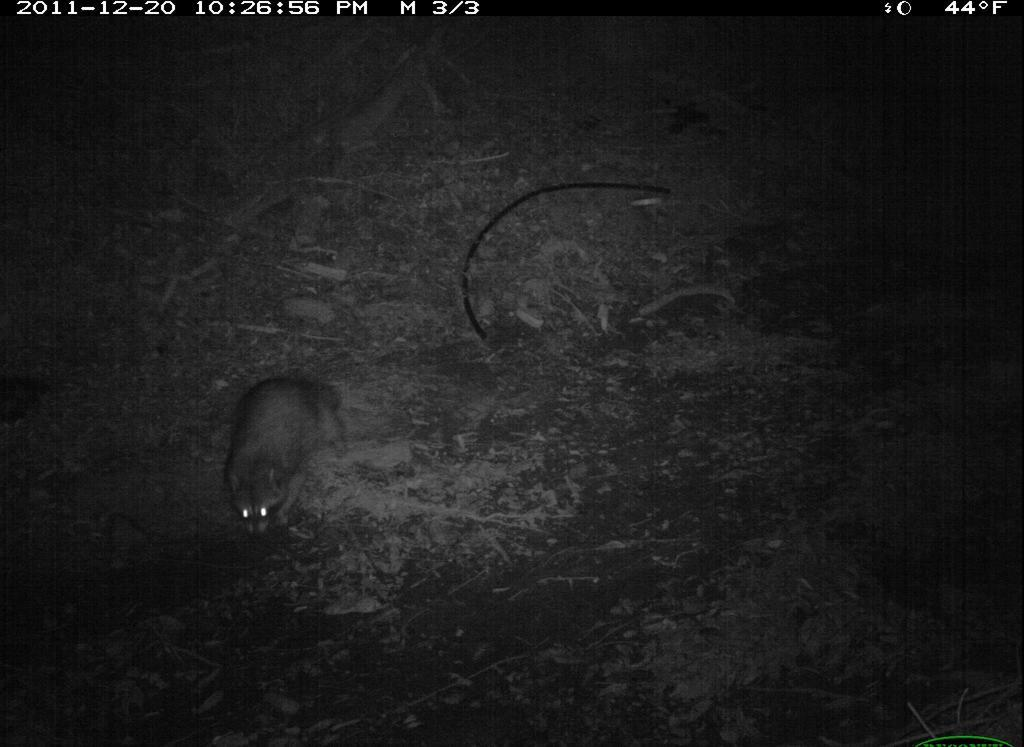raccoon: (218, 367, 347, 542)
